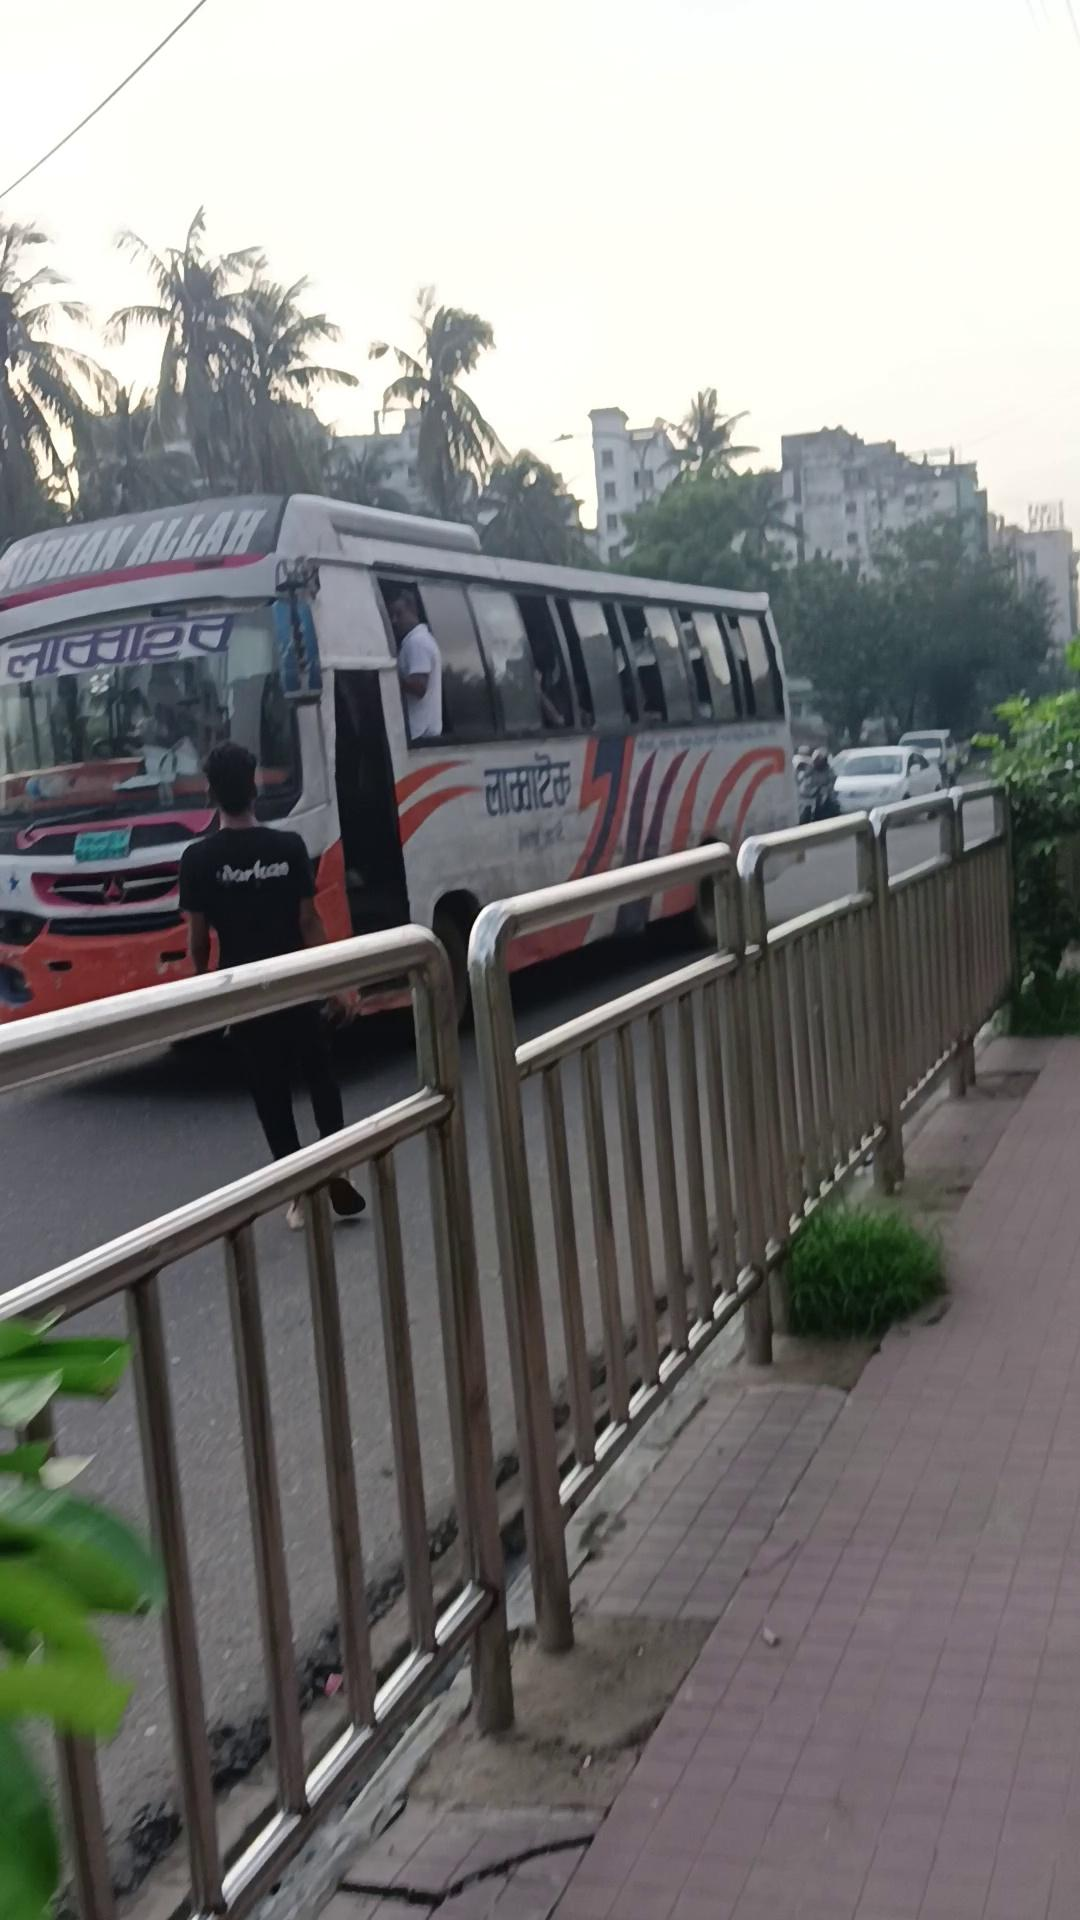Car: (823, 744, 943, 824)
Muddy road: (175, 741, 367, 1230), (389, 589, 443, 741), (795, 746, 837, 824)
Traffic-sign: (1, 491, 804, 1079)
